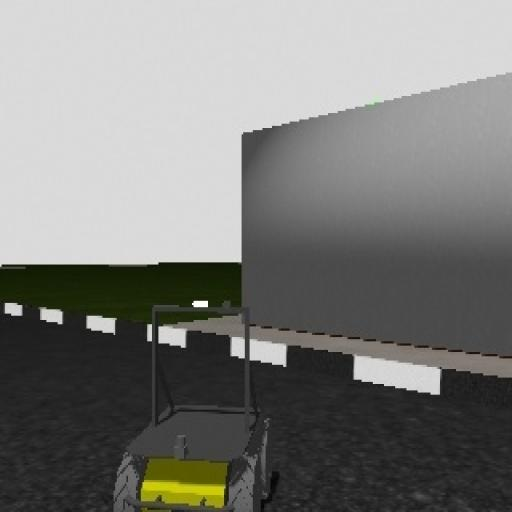huskya200: (106, 287, 284, 512)
